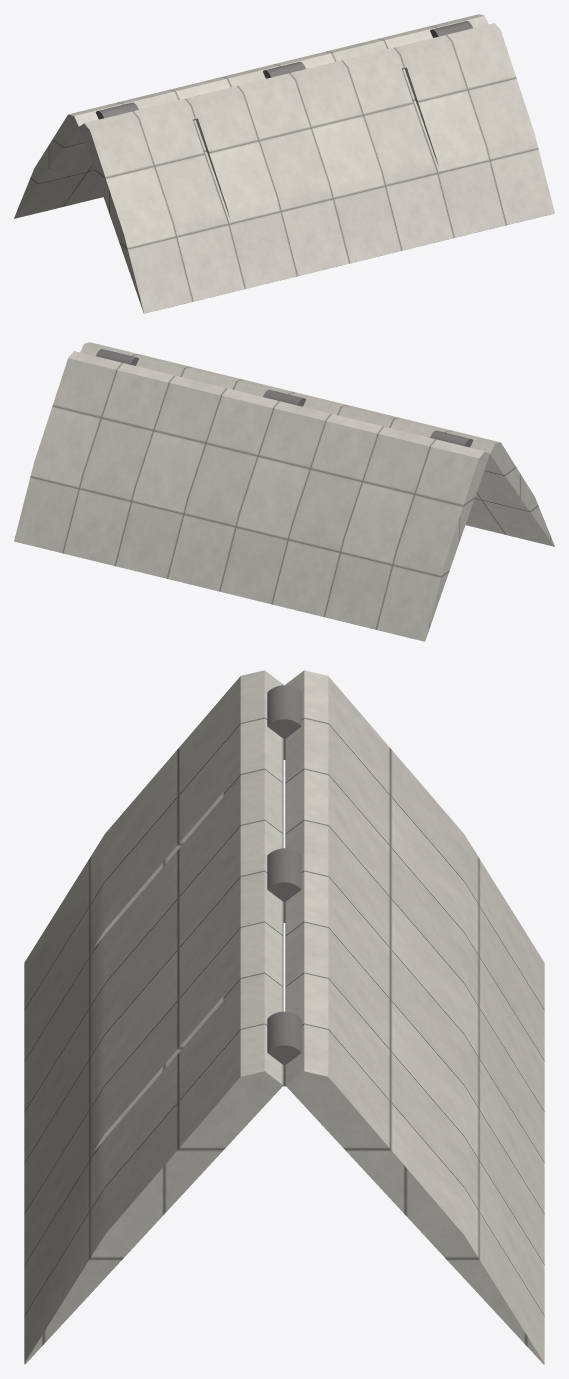
Rendered from ax_aero_24_csr_rudder_brake_s_open.glb.
3 views of the same model, one above another, from view 1: azimuth 30°, elevation 25°; view 2: azimuth 150°, elevation 25°; view 3: azimuth 270°, elevation 25° (orthographic). The views are drawn at different scales.
Visible parts, largest first — view 1: surface_upper, surface_lower, hinge_fittings; view 2: surface_lower, surface_upper, hinge_fittings; view 3: surface_upper, surface_lower, hinge_fittings.
Boxes of the visible parts, left/top/right/bottom form: surface_upper: left=79, top=23, right=554, bottom=313; surface_lower: left=14, top=14, right=488, bottom=218; hinge_fittings: left=95, top=21, right=472, bottom=119; surface_lower: left=14, top=351, right=489, bottom=641; surface_upper: left=80, top=342, right=554, bottom=546; hinge_fittings: left=96, top=349, right=473, bottom=447; surface_upper: left=24, top=670, right=283, bottom=1364; surface_lower: left=285, top=670, right=544, bottom=1364; hinge_fittings: left=267, top=685, right=301, bottom=1086.
Bounding box in the file's own units: 1.18 × 0.4101 × 0.6474.
Materials: 2 (2 with a texture image).
